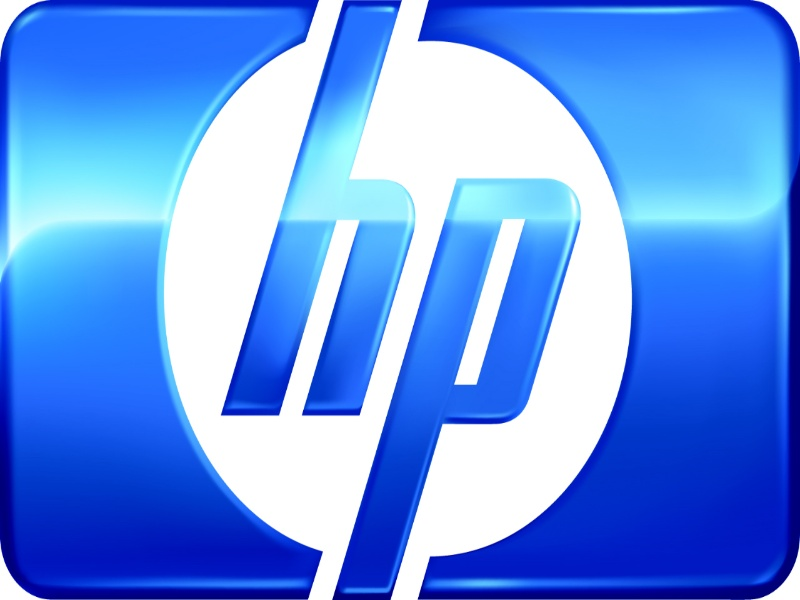hp: (203, 5, 588, 600)
